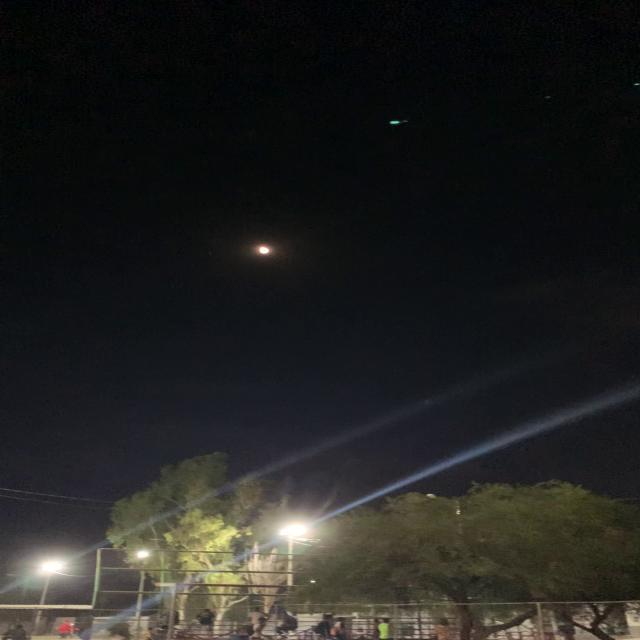moon: (135, 218, 212, 260)
